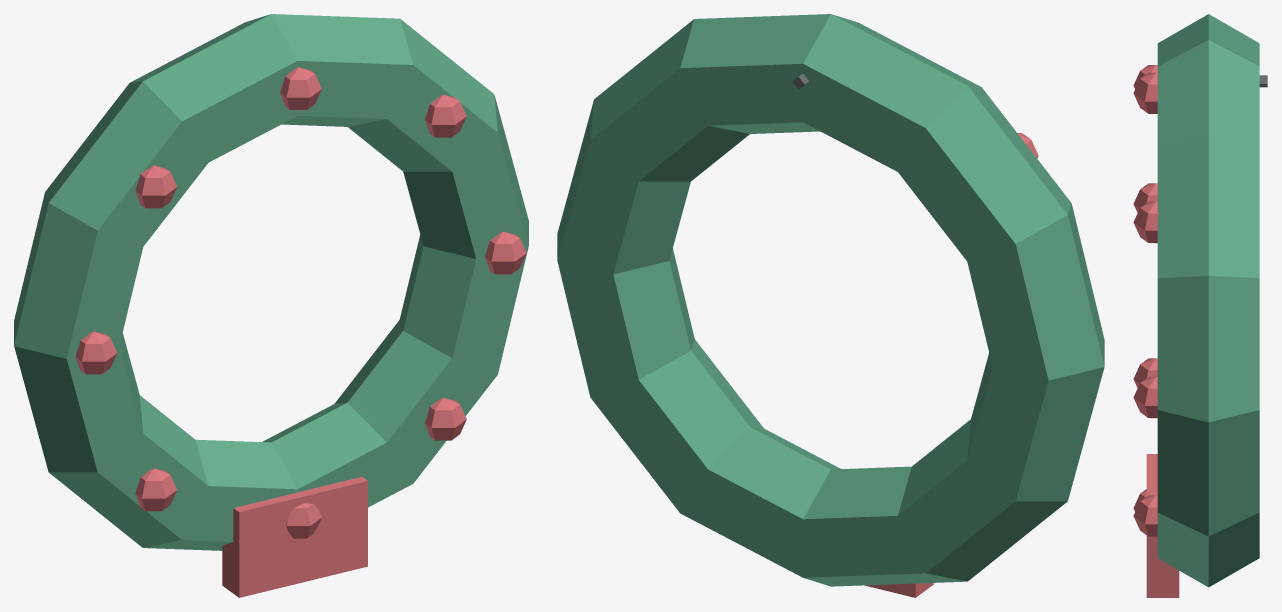
Rendered from prop_wreath.glb.
The picture shows the model from 3 angles, left to right: view 1: azimuth 30°, elevation 25°; view 2: azimuth 150°, elevation 25°; view 3: azimuth 270°, elevation 25°; orthographic projection. The views are drawn at different scales.
Parts seen in each view (by area): view 1: Wreath, Berry.0; view 2: Wreath, Berry.0; view 3: Wreath, Berry.0.
Part boxes in pixels (left/top/right/bottom): Wreath: left=14, top=14, right=528, bottom=550; Berry.0: left=75, top=67, right=526, bottom=597; Wreath: left=557, top=14, right=1104, bottom=586; Berry.0: left=864, top=133, right=1038, bottom=597; Wreath: left=1157, top=14, right=1259, bottom=587; Berry.0: left=1133, top=65, right=1179, bottom=597.
Bounding box in the file's own units: 0.88 × 0.89 × 0.205.
